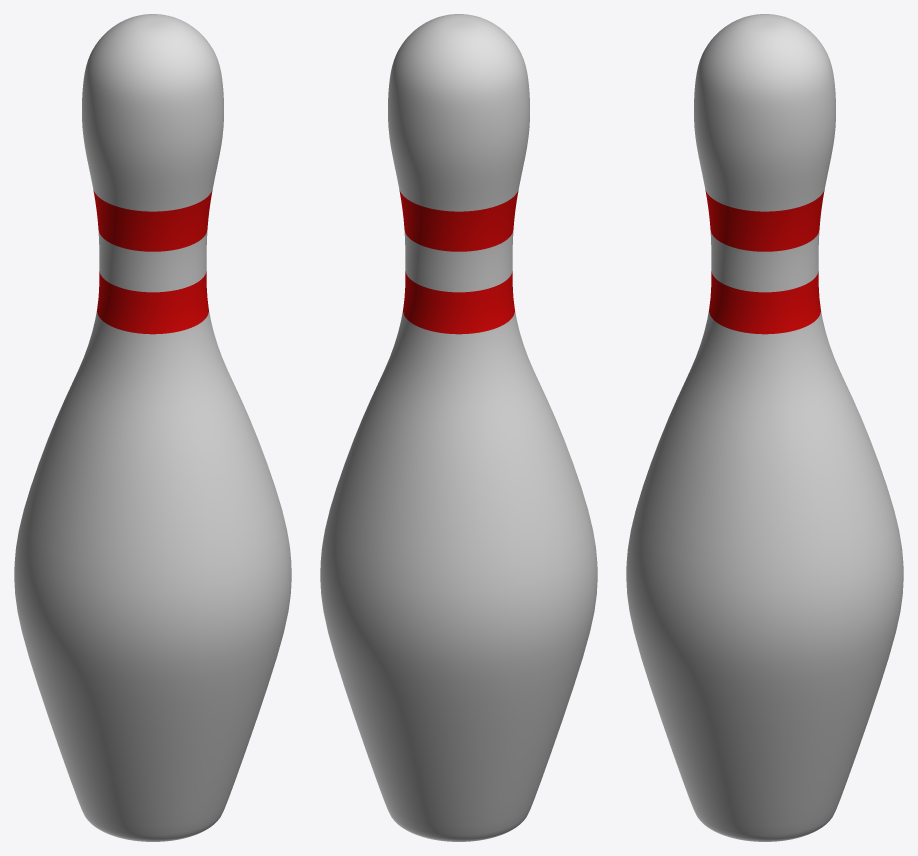
The model's file is bolos xd.fbx.
3 views of the same model, side by side, from view 1: azimuth 30°, elevation 25°; view 2: azimuth 150°, elevation 25°; view 3: azimuth 270°, elevation 25° (orthographic).
Visible parts, largest first — view 1: Circle; view 2: Circle; view 3: Circle.
Boxes of the visible parts, x1,y1,x2,y2 form: Circle: (14,14,291,841); Circle: (320,14,597,841); Circle: (626,14,903,841).
Bounding box in the file's own units: 146 × 461 × 146.
